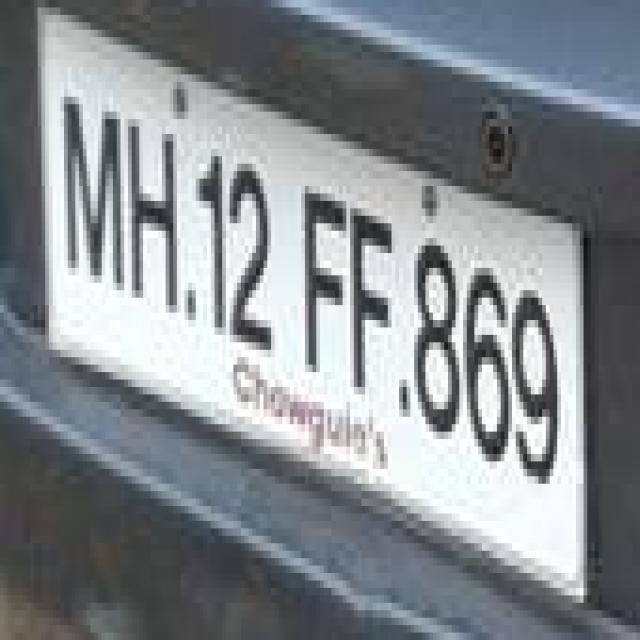license_plate: (15, 22, 584, 476)
